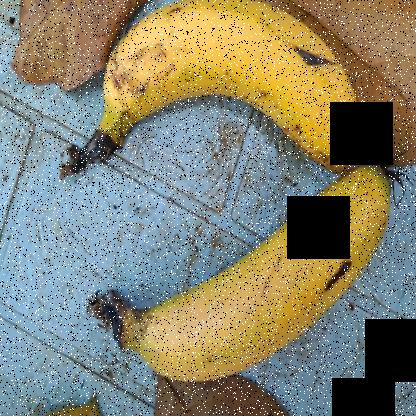freshripe: (143, 155, 392, 386)
ripe: (80, 1, 381, 164)
